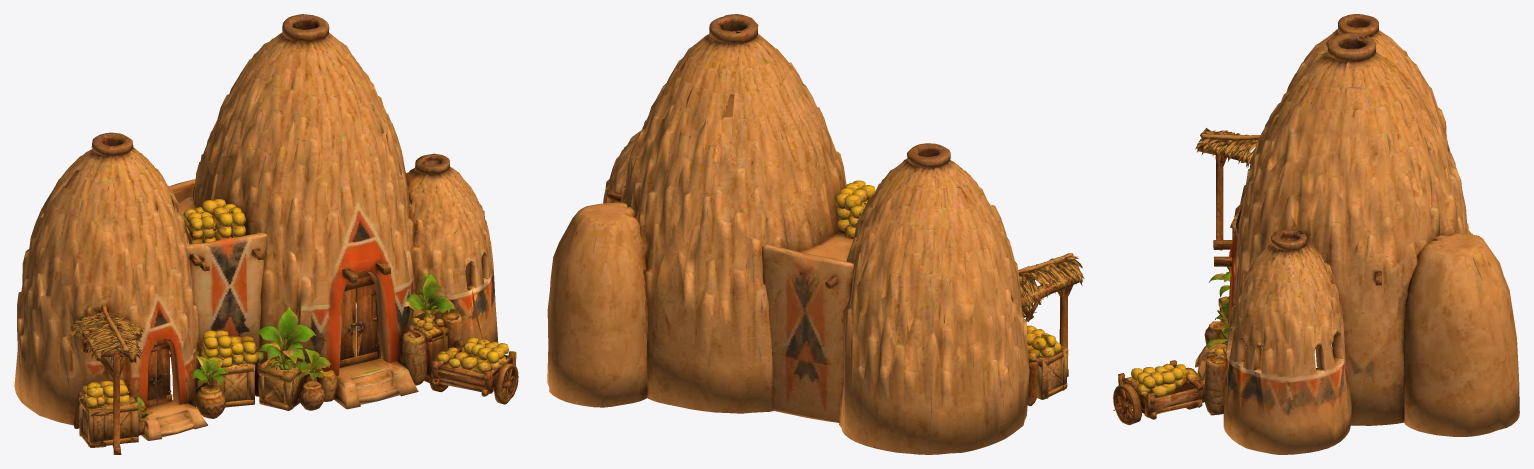
The picture shows the model from 3 angles, left to right: view 1: azimuth 30°, elevation 25°; view 2: azimuth 150°, elevation 25°; view 3: azimuth 270°, elevation 25°; orthographic projection. The views are drawn at different scales.
Visible parts, largest first — view 1: Mesh_0; view 2: Mesh_0; view 3: Mesh_0.
Part boxes in pixels (bbox=[...]): Mesh_0: bbox=[14, 14, 518, 454]; Mesh_0: bbox=[547, 14, 1084, 454]; Mesh_0: bbox=[1113, 14, 1519, 454].
Bounding box in the file's own units: 7.51 × 5.39 × 5.91.
Materials: 1 (1 with a texture image).
